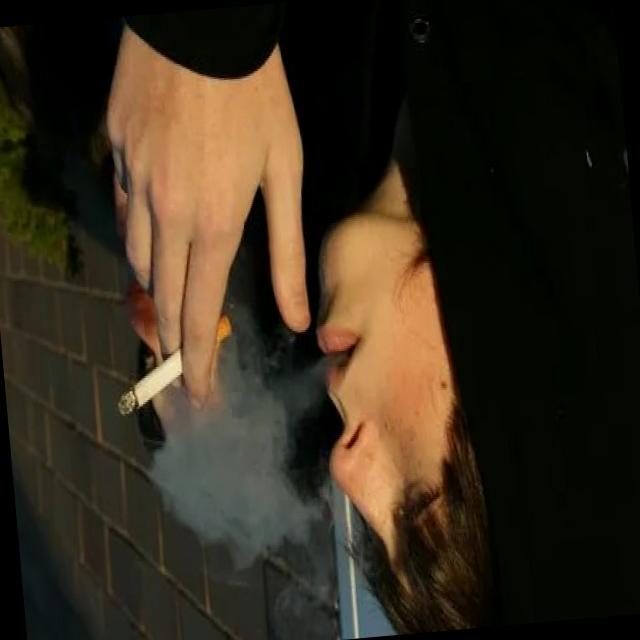cigarette: (108, 306, 239, 416)
